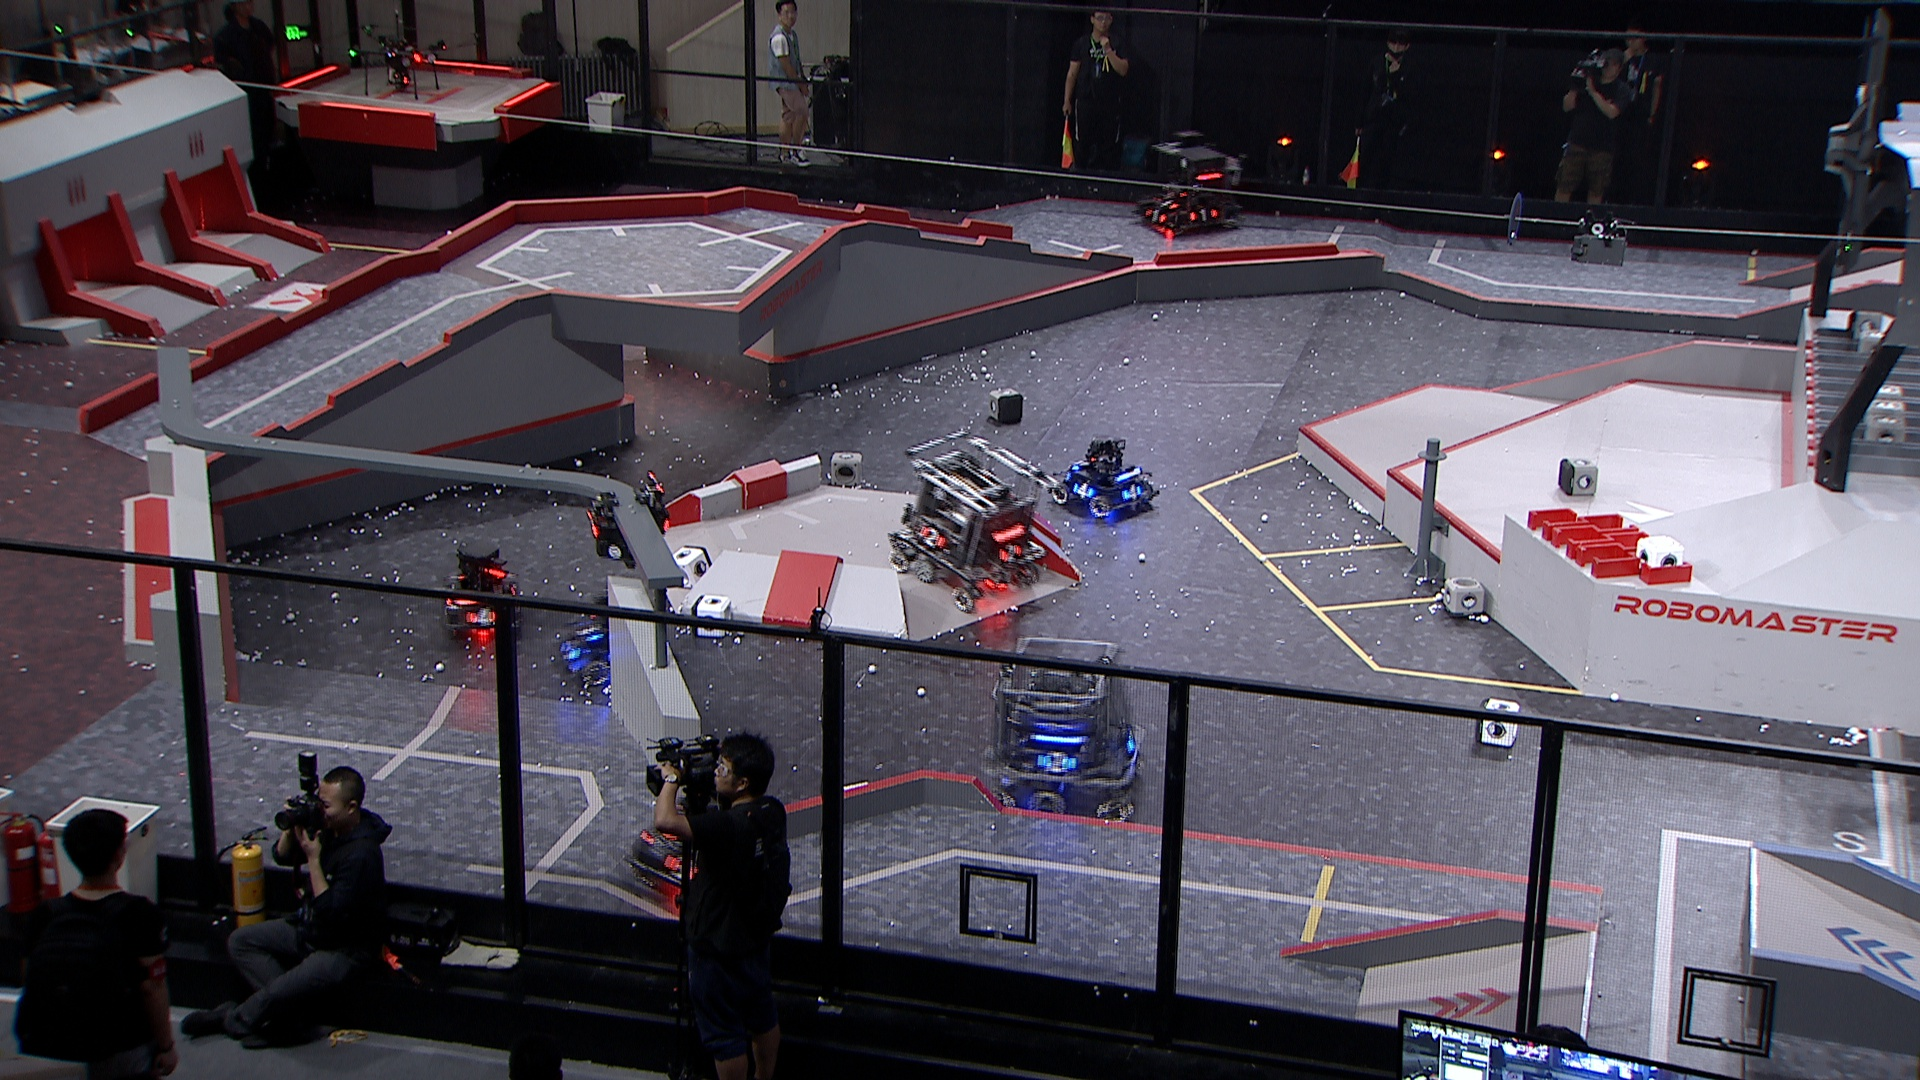armor: (1033, 752, 1077, 778), (463, 603, 498, 626), (916, 526, 949, 550), (575, 618, 605, 641), (994, 543, 1025, 564), (584, 508, 603, 542), (1189, 206, 1218, 224), (1072, 480, 1097, 501), (556, 638, 582, 659), (1120, 481, 1145, 500), (1143, 204, 1168, 223), (1124, 725, 1138, 756), (1068, 456, 1092, 473), (1154, 196, 1179, 210)
car: (882, 423, 1059, 608), (982, 633, 1145, 822), (618, 782, 756, 898), (1133, 131, 1247, 237), (553, 584, 669, 684), (1046, 433, 1159, 522), (436, 537, 527, 642)
watcher: (580, 467, 673, 570)
